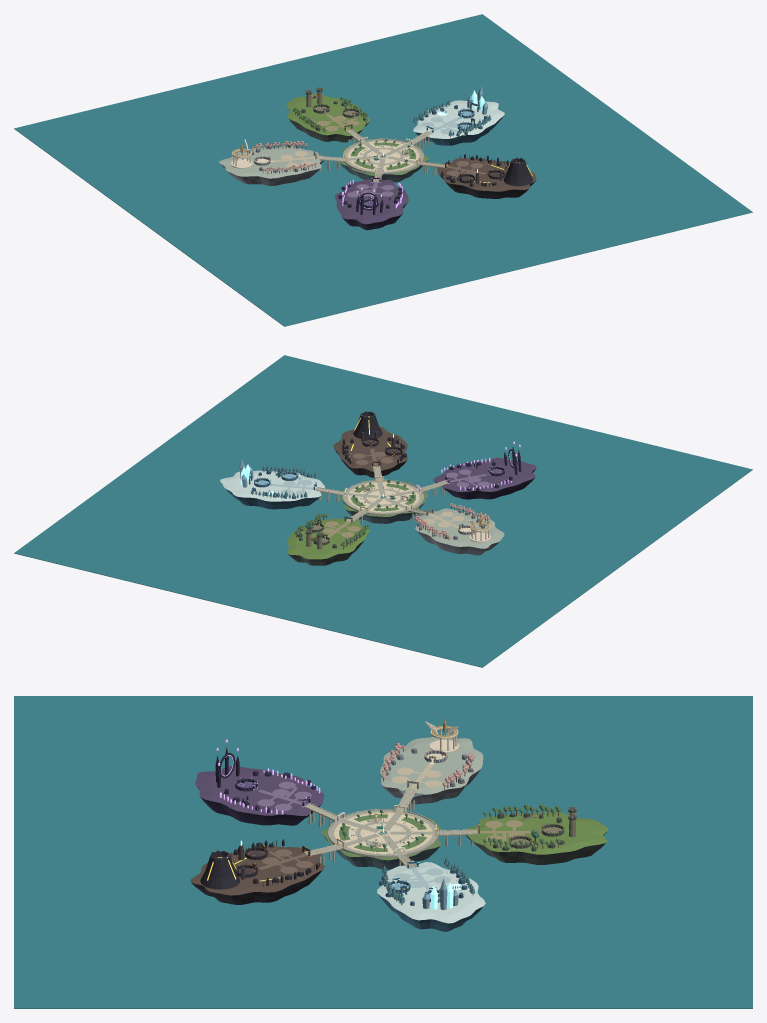
File: FivefoldSanctuary.glb
3 views of the same model, one above another, from view 1: azimuth 30°, elevation 25°; view 2: azimuth 150°, elevation 25°; view 3: azimuth 270°, elevation 25° (orthographic). The views are drawn at different scales.
Visible parts, largest first — view 1: Ocean_VisualOnly_Still water_0_0, Terrain_VoidRift_VoidRift_ground_-3_-4, Terrain_CelestialSummit_CelestialSummit_ground_-5_1, Terrain_IronLowlands_IronLowlands_ground_-1_4, Terrain_FrostboundGlacier_FrostboundGlacier_ground_4_1, Terrain_InfernalCaldera_InfernalCaldera_ground_2_-4, Hub_Warm ivory_-1_0, Terrain_CelestialSummit_CelestialSummit_dark_-5_1, Terrain_InfernalCaldera_InfernalCaldera_dark_2_-4, Landmark_InfernalCaldera_InfernalCaldera_dark_3_-5, Hub_Sanctuary limestone_-1_0; view 2: Ocean_VisualOnly_Still water_0_0, Terrain_VoidRift_VoidRift_ground_-3_-4, Terrain_IronLowlands_IronLowlands_ground_-1_4, Terrain_FrostboundGlacier_FrostboundGlacier_ground_4_1, Terrain_CelestialSummit_CelestialSummit_ground_-5_1, Terrain_InfernalCaldera_InfernalCaldera_ground_2_-4, Hub_Warm ivory_-1_0, Terrain_FrostboundGlacier_FrostboundGlacier_dark_4_1, Terrain_VoidRift_VoidRift_dark_-3_-4, Hub_Sanctuary limestone_-1_0, Landmark_InfernalCaldera_InfernalCaldera_dark_3_-5, Terrain_CelestialSummit_CelestialSummit_dark_-5_1; view 3: Ocean_VisualOnly_Still water_0_0, Terrain_VoidRift_VoidRift_ground_-3_-4, Terrain_IronLowlands_IronLowlands_ground_-1_4, Terrain_CelestialSummit_CelestialSummit_ground_-5_1, Terrain_FrostboundGlacier_FrostboundGlacier_ground_4_1, Terrain_InfernalCaldera_InfernalCaldera_ground_2_-4, Hub_Warm ivory_-1_0, Terrain_IronLowlands_IronLowlands_dark_-1_4, Terrain_InfernalCaldera_InfernalCaldera_dark_2_-4, Landmark_InfernalCaldera_InfernalCaldera_dark_3_-5, Terrain_VoidRift_VoidRift_dark_-3_-4, Hub_Sanctuary limestone_-1_0 (+6 smaller).
Boxes of the visible parts, x1,y1,x2,y2 form: Ocean_VisualOnly_Still water_0_0: (14, 14, 752, 326); Terrain_VoidRift_VoidRift_ground_-3_-4: (335, 179, 408, 224); Terrain_CelestialSummit_CelestialSummit_ground_-5_1: (219, 146, 321, 178); Terrain_IronLowlands_IronLowlands_ground_-1_4: (286, 93, 369, 135); Terrain_FrostboundGlacier_FrostboundGlacier_ground_4_1: (413, 100, 504, 138); Terrain_InfernalCaldera_InfernalCaldera_ground_2_-4: (436, 158, 536, 191); Hub_Warm ivory_-1_0: (347, 141, 419, 171); Terrain_CelestialSummit_CelestialSummit_dark_-5_1: (220, 153, 324, 185); Terrain_InfernalCaldera_InfernalCaldera_dark_2_-4: (439, 174, 535, 198); Landmark_InfernalCaldera_InfernalCaldera_dark_3_-5: (504, 158, 532, 186); Hub_Sanctuary limestone_-1_0: (343, 139, 423, 174); Ocean_VisualOnly_Still water_0_0: (14, 355, 752, 667); Terrain_VoidRift_VoidRift_ground_-3_-4: (433, 458, 536, 492); Terrain_IronLowlands_IronLowlands_ground_-1_4: (287, 518, 369, 559); Terrain_FrostboundGlacier_FrostboundGlacier_ground_4_1: (220, 470, 324, 501); Terrain_CelestialSummit_CelestialSummit_ground_-5_1: (415, 508, 504, 548); Terrain_InfernalCaldera_InfernalCaldera_ground_2_-4: (333, 426, 407, 471); Hub_Warm ivory_-1_0: (347, 482, 419, 512); Terrain_FrostboundGlacier_FrostboundGlacier_dark_4_1: (225, 488, 320, 509); Terrain_VoidRift_VoidRift_dark_-3_-4: (434, 469, 535, 499); Hub_Sanctuary limestone_-1_0: (343, 480, 423, 515); Landmark_InfernalCaldera_InfernalCaldera_dark_3_-5: (353, 411, 382, 438); Terrain_CelestialSummit_CelestialSummit_dark_-5_1: (417, 511, 499, 555); Ocean_VisualOnly_Still water_0_0: (14, 696, 752, 1008); Terrain_VoidRift_VoidRift_ground_-3_-4: (195, 766, 324, 815); Terrain_IronLowlands_IronLowlands_ground_-1_4: (465, 811, 607, 854); Terrain_CelestialSummit_CelestialSummit_ground_-5_1: (380, 737, 483, 796); Terrain_FrostboundGlacier_FrostboundGlacier_ground_4_1: (377, 862, 485, 923); Terrain_InfernalCaldera_InfernalCaldera_ground_2_-4: (190, 845, 324, 895); Hub_Warm ivory_-1_0: (334, 812, 432, 854); Terrain_IronLowlands_IronLowlands_dark_-1_4: (466, 832, 606, 864); Terrain_InfernalCaldera_InfernalCaldera_dark_2_-4: (191, 858, 322, 904); Landmark_InfernalCaldera_InfernalCaldera_dark_3_-5: (200, 850, 240, 889); Terrain_VoidRift_VoidRift_dark_-3_-4: (197, 787, 320, 825); Hub_Sanctuary limestone_-1_0: (328, 810, 438, 857).
Size of the model in its own units: 2400 by 218 by 2400.
